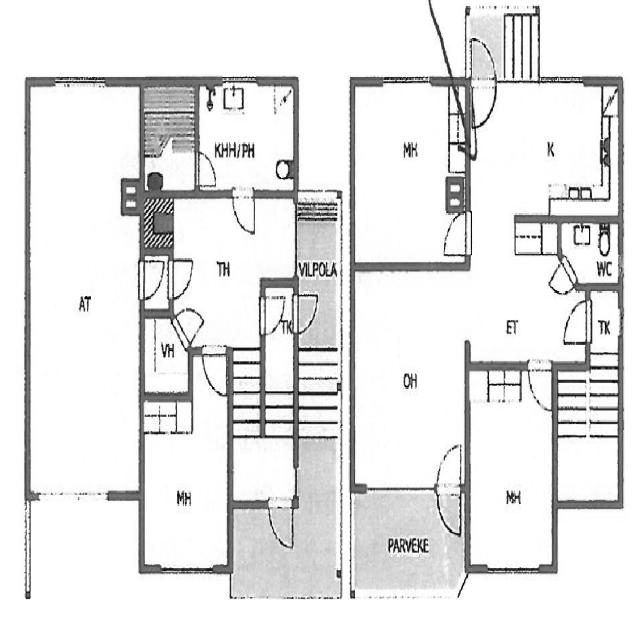door: (436, 443, 464, 538), (470, 37, 497, 132), (137, 252, 170, 306), (259, 286, 290, 336), (201, 345, 229, 399), (528, 358, 554, 415), (268, 496, 294, 552), (230, 185, 258, 236), (440, 212, 471, 258), (561, 298, 590, 346), (168, 254, 196, 302), (292, 288, 320, 335), (192, 147, 220, 190), (182, 304, 205, 343)
window: (33, 483, 113, 509), (49, 68, 109, 95), (360, 477, 436, 497), (378, 70, 436, 92), (540, 68, 586, 91), (155, 561, 210, 578), (484, 561, 536, 578), (221, 71, 259, 88), (617, 306, 626, 336), (618, 250, 626, 278)
zone: (27, 84, 139, 496), (351, 265, 467, 489), (352, 79, 469, 266), (470, 79, 620, 217), (174, 193, 295, 362), (468, 364, 554, 572), (140, 394, 229, 571), (466, 219, 560, 365), (195, 84, 298, 192), (140, 80, 197, 193), (556, 217, 622, 287), (141, 314, 188, 395), (589, 287, 621, 365)
